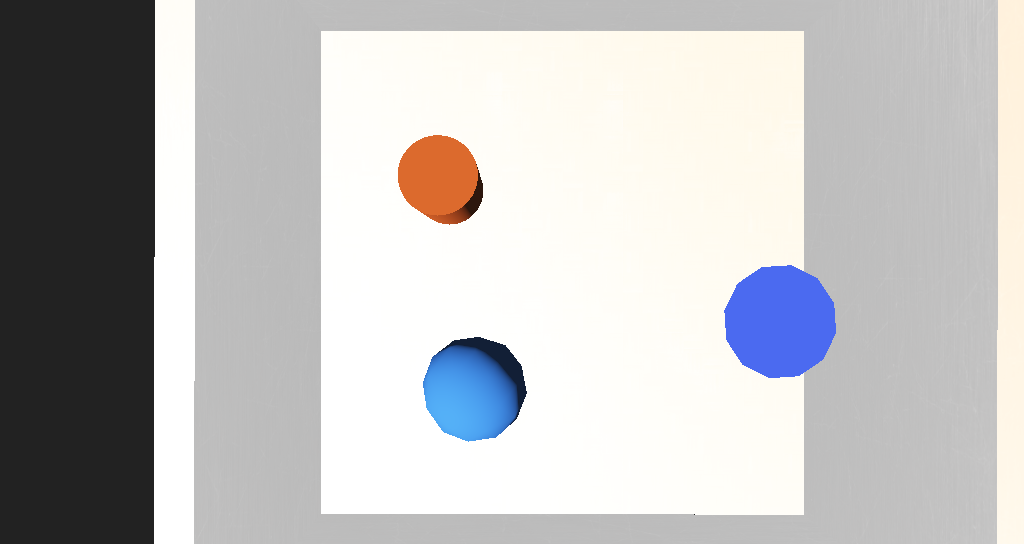cone: (404, 210, 458, 248)
cylinder: (583, 265, 670, 317)
sphere: (421, 298, 482, 341)
